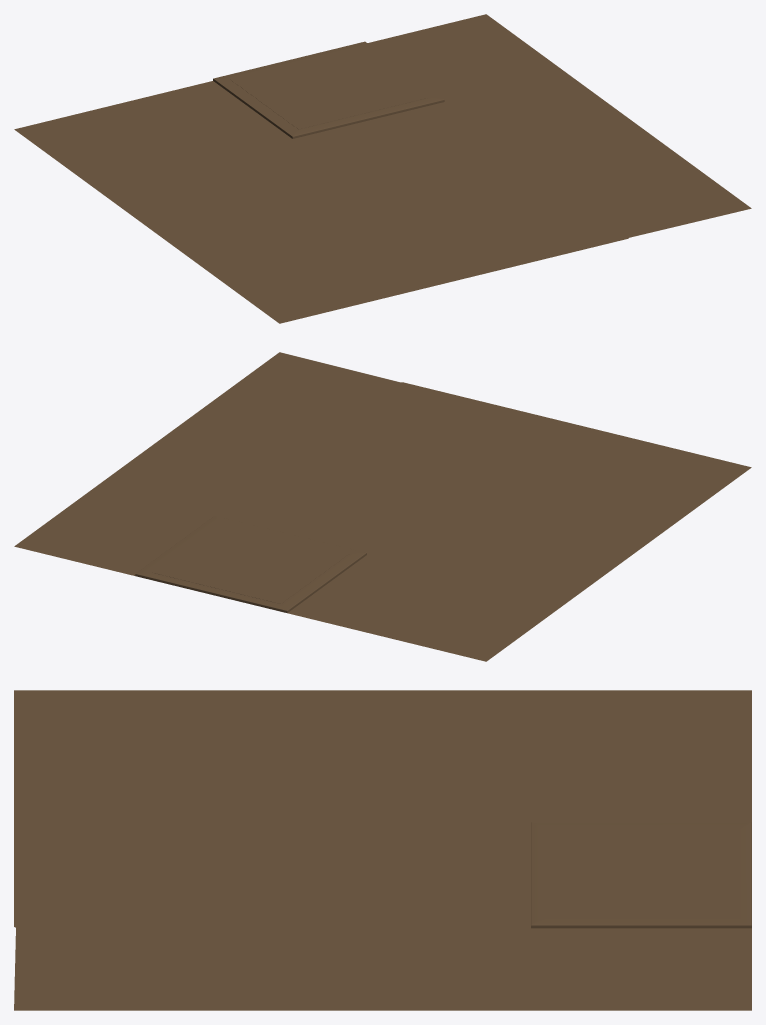
Rendered from Floor.fbx.
The picture shows the model from 3 angles, top to bottom: view 1: azimuth 30°, elevation 25°; view 2: azimuth 150°, elevation 25°; view 3: azimuth 270°, elevation 25°; orthographic projection. The views are drawn at different scales.
Parts seen in each view (by area): view 1: Floor; view 2: Floor; view 3: Floor.
Part boxes in pixels (box(x1,y1,x2,y2)): Floor: box(14, 14, 751, 323); Floor: box(14, 352, 751, 661); Floor: box(14, 690, 751, 1010).
Bounding box in the file's own units: 595 × 3.08 × 580.
